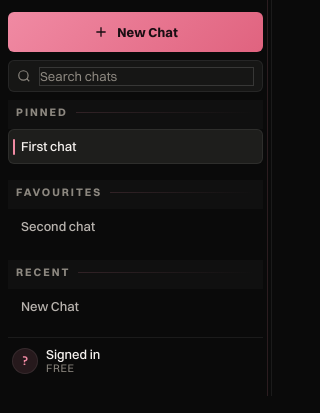
Test: ChatSidebar — search › distinguishes 'no matches' from 'no chats yet'
The image size is (320, 413).
Type "zzzzz" into the field with class "sidebar-search-input". click: [146, 76]
box: top-left (39, 66), bottom-right (254, 86)
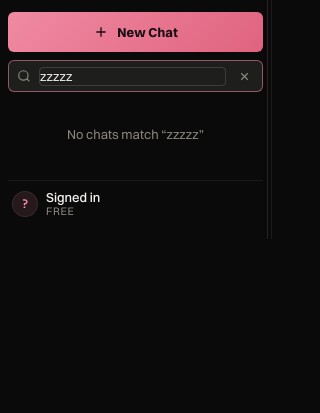
Expected: the text "No chats match “zzzzz”" is shown, top-left (67, 126), bottom-right (204, 142)
